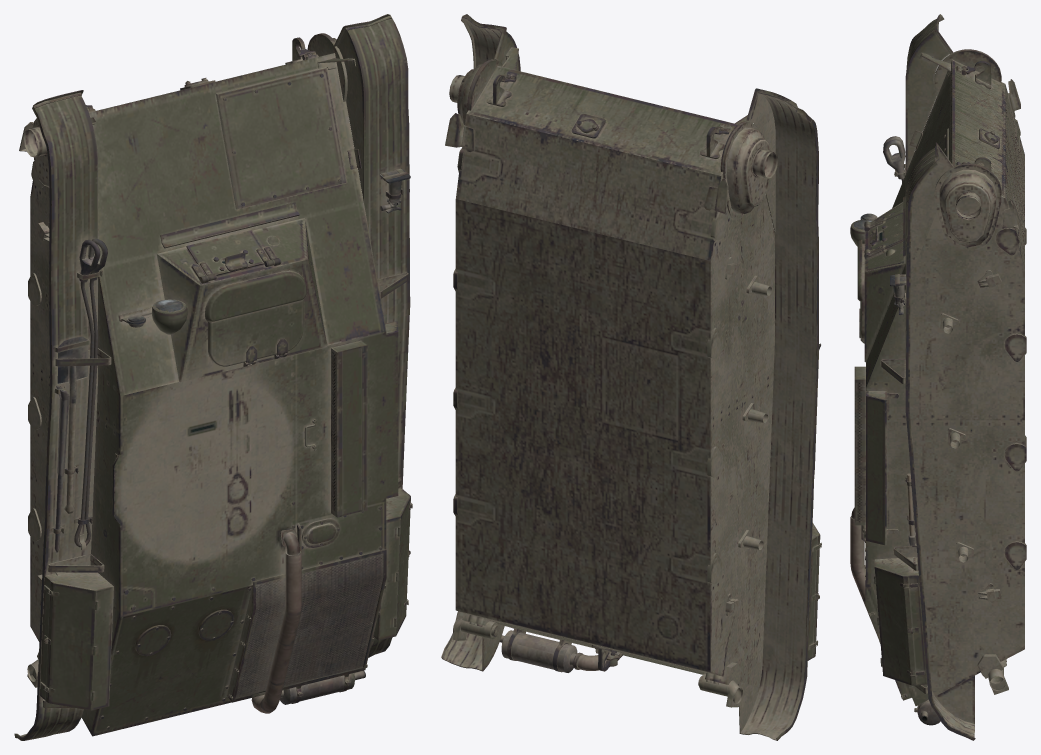
Rendered from Hull.glb.
3 views of the same model, side by side, from view 1: azimuth 30°, elevation 25°; view 2: azimuth 150°, elevation 25°; view 3: azimuth 270°, elevation 25° (orthographic). The views are drawn at different scales.
Parts seen in each view (by area): view 1: set_0_group_0; view 2: set_0_group_0; view 3: set_0_group_0.
Part boxes in pixels (box(x1,y1,x2,y2)): set_0_group_0: box(14, 14, 412, 740); set_0_group_0: box(441, 14, 821, 740); set_0_group_0: box(850, 14, 1026, 740).
Bounding box in the file's own units: 2.37 × 4.1 × 1.12.
1 material, 1 textured.
